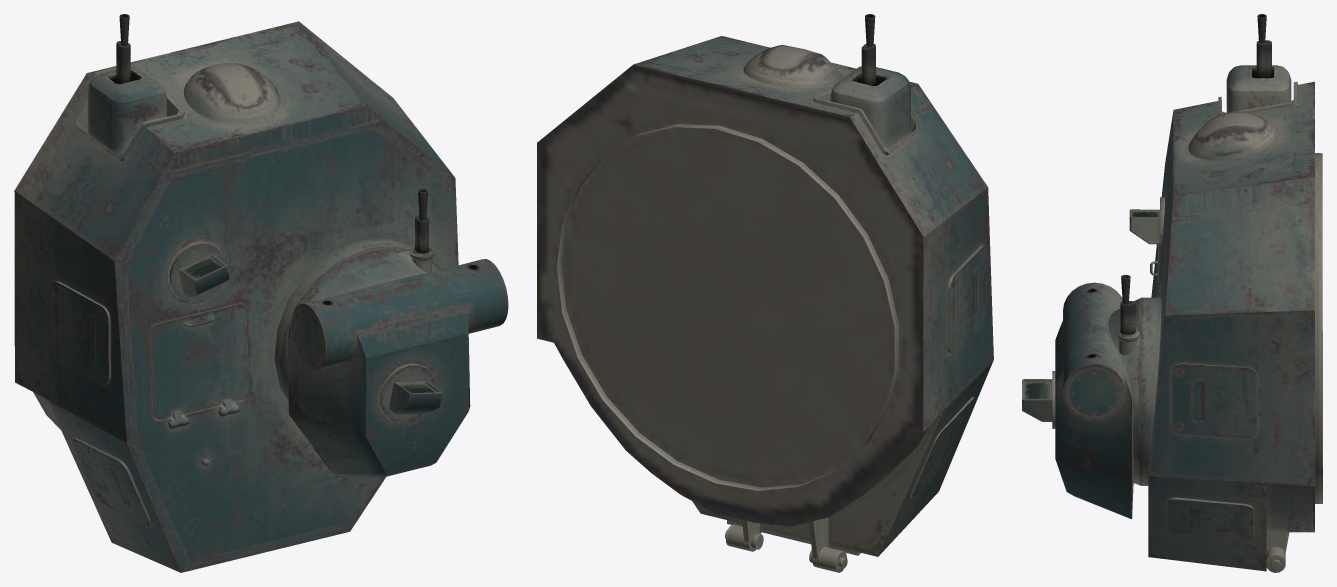
File: Turret_02.glb
3 views of the same model, side by side, from view 1: azimuth 30°, elevation 25°; view 2: azimuth 150°, elevation 25°; view 3: azimuth 270°, elevation 25° (orthographic). The views are drawn at different scales.
Parts seen in each view (by area): view 1: set_0_group_0; view 2: set_0_group_0; view 3: set_0_group_0.
Boxes of the visible parts, x1,y1,x2,y2 form: set_0_group_0: [14, 14, 508, 572]; set_0_group_0: [537, 14, 993, 572]; set_0_group_0: [1022, 14, 1322, 572].
Size of the model in its own units: 1.8 by 2.48 by 1.35.
Materials: 1 (1 with a texture image).
